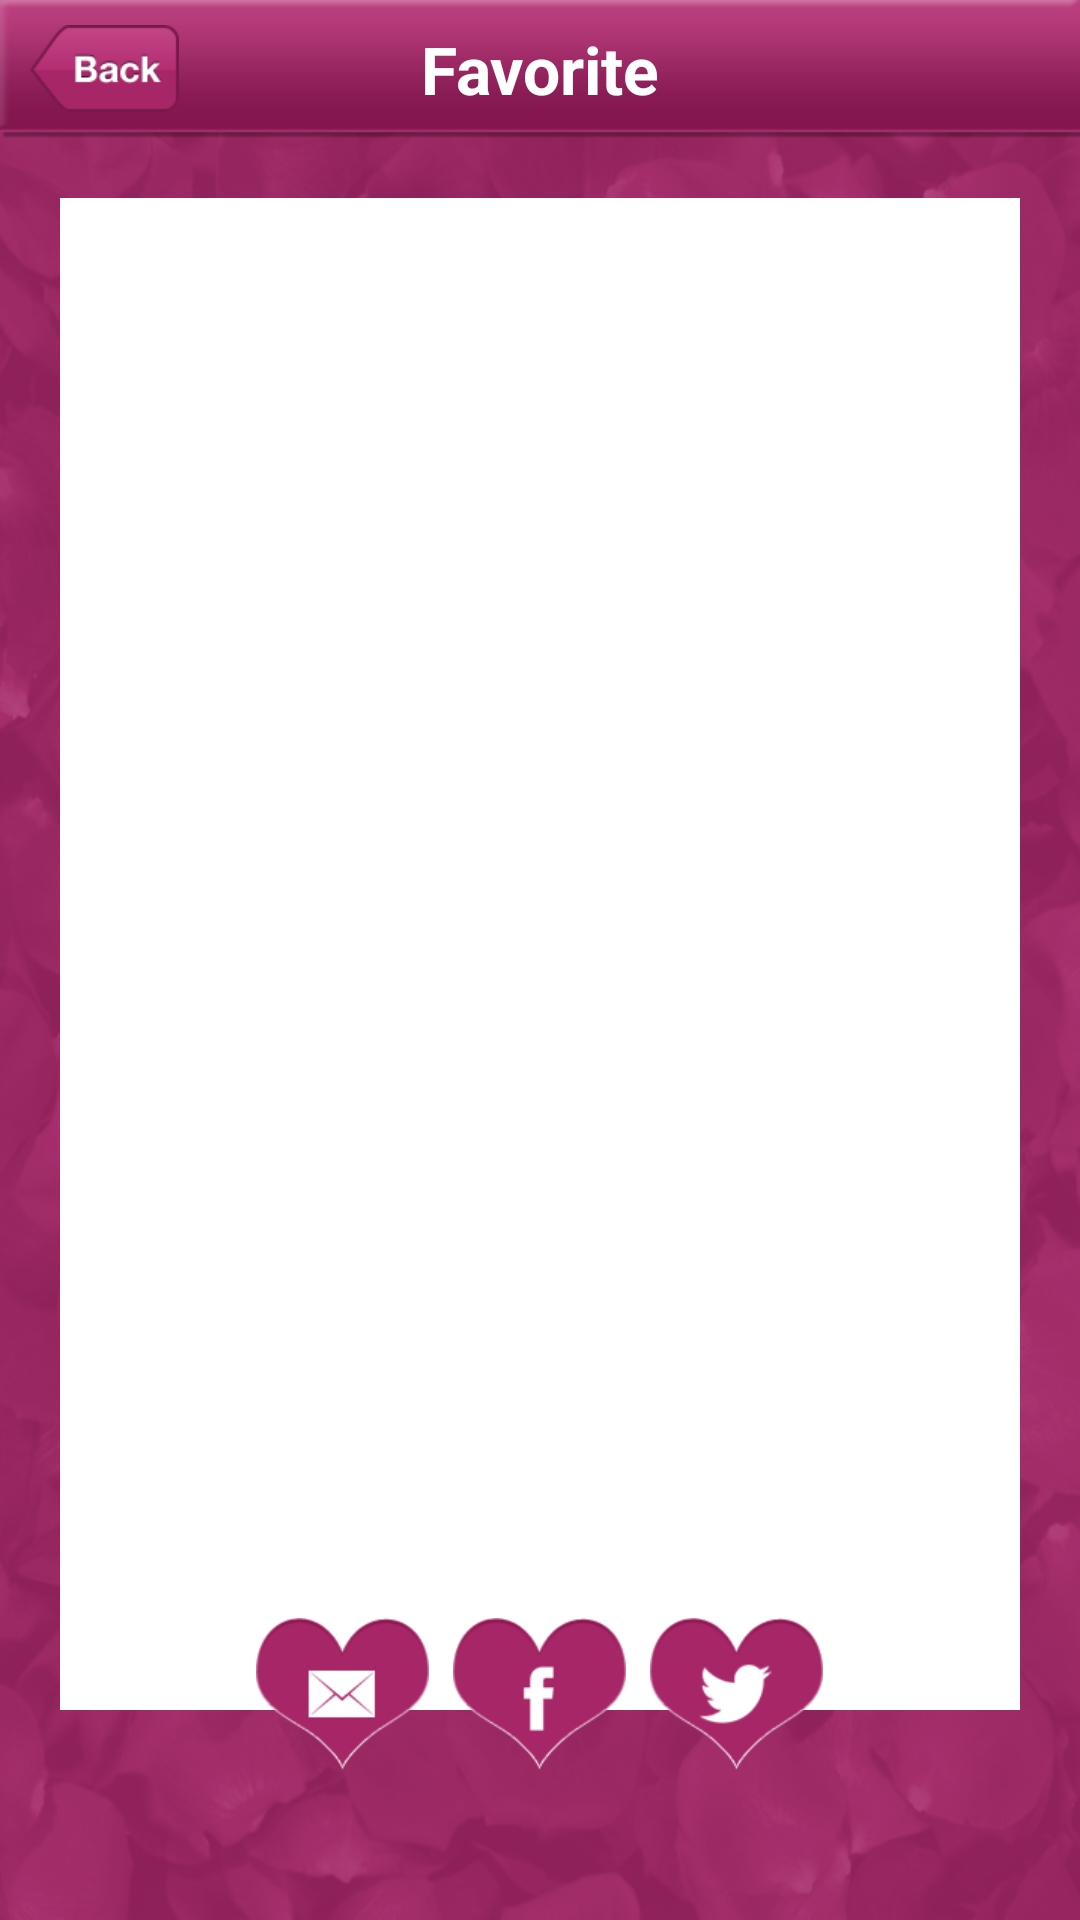

Screen size 1080px×1920px. Icon name, then its center in pixels as point (x, y):
sendsms: point (342, 1694)
